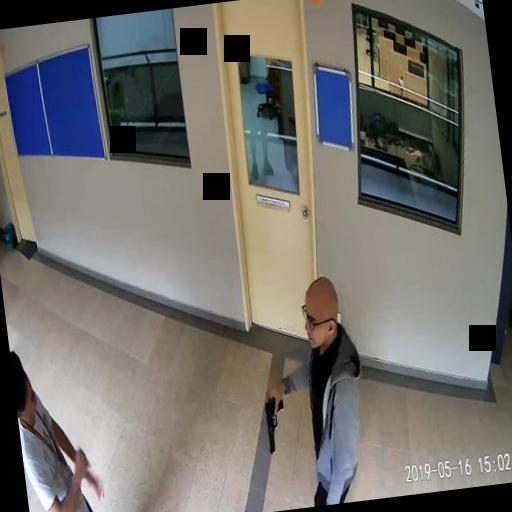Handgun: (262, 392, 288, 454)
